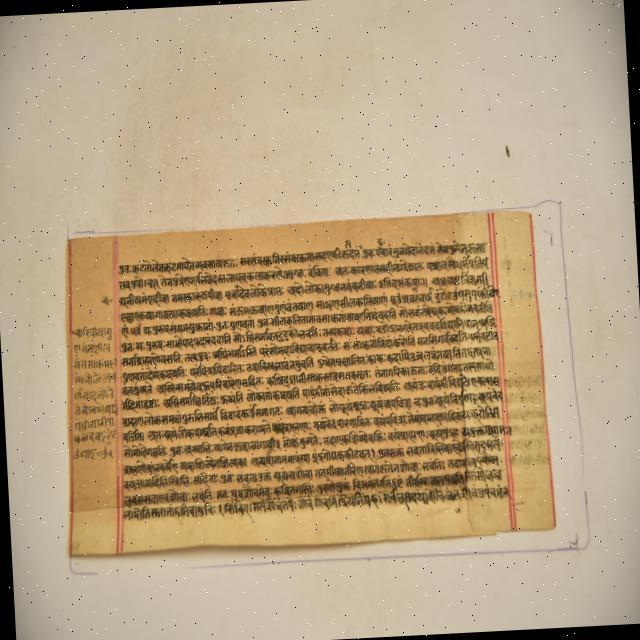text_paragraph: (68, 211, 554, 555)
